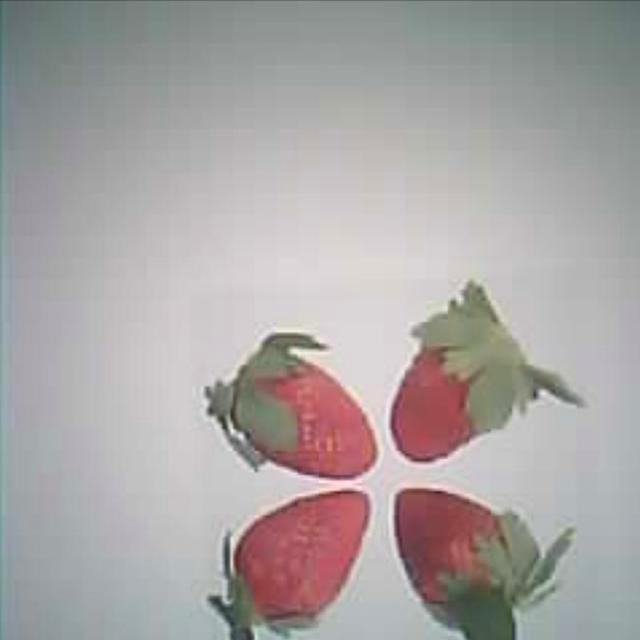Healthy Fruit: (203, 331, 379, 481), (390, 304, 529, 460), (232, 490, 366, 626), (396, 485, 527, 607)
